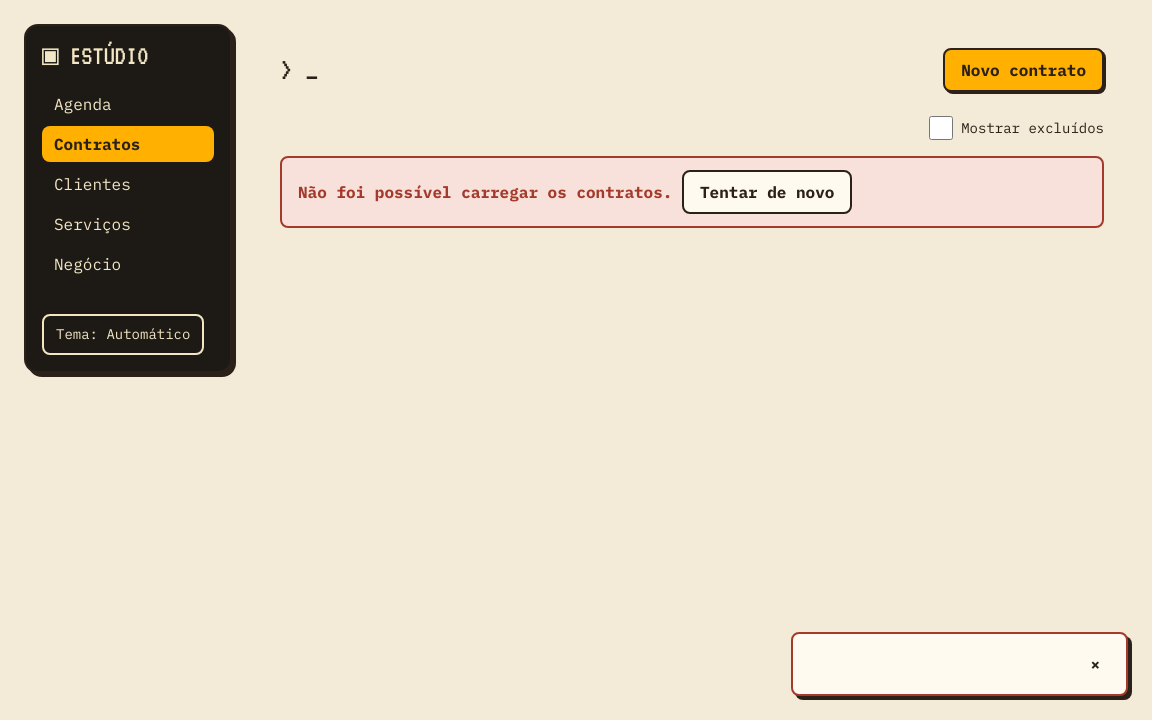
Scenario: the nav moves between contracts and clients
This screenshot has width=1152, height=720.
Click the link "Clientes" at (92, 184), box [54,174,131,194]
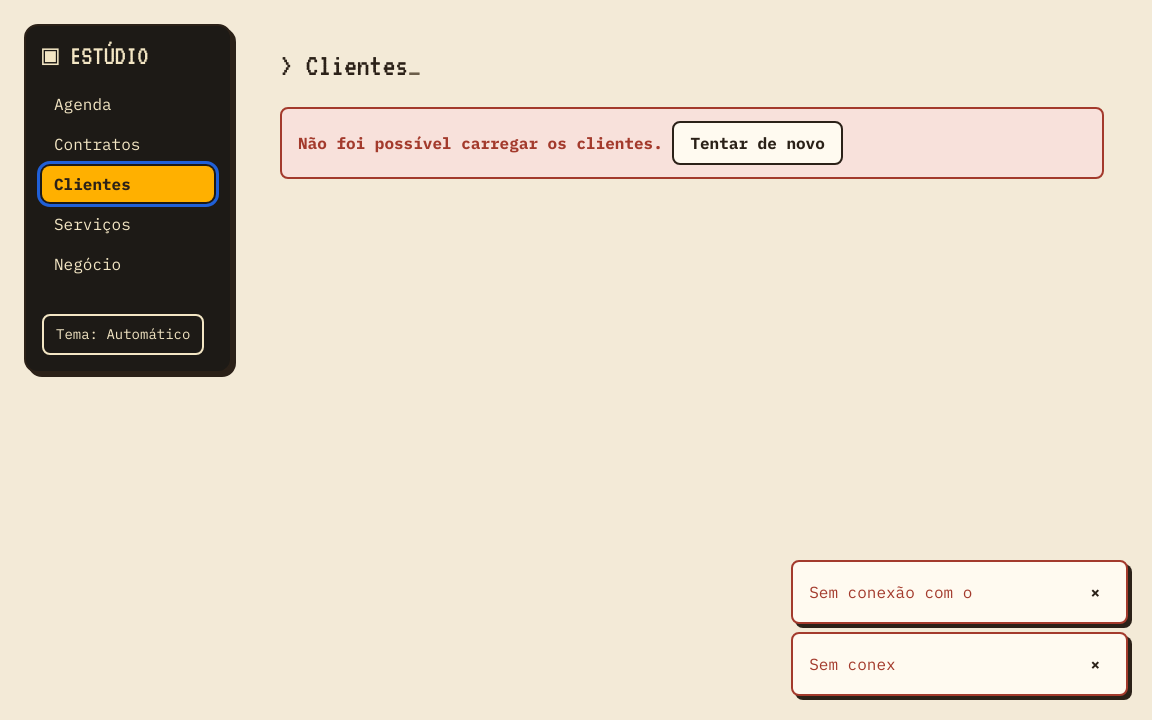
Expected: the navigation bar named "Principal" is shown, [24,24,232,373]
Now the heading "Clientes" is shown, box [306,49,408,81]
